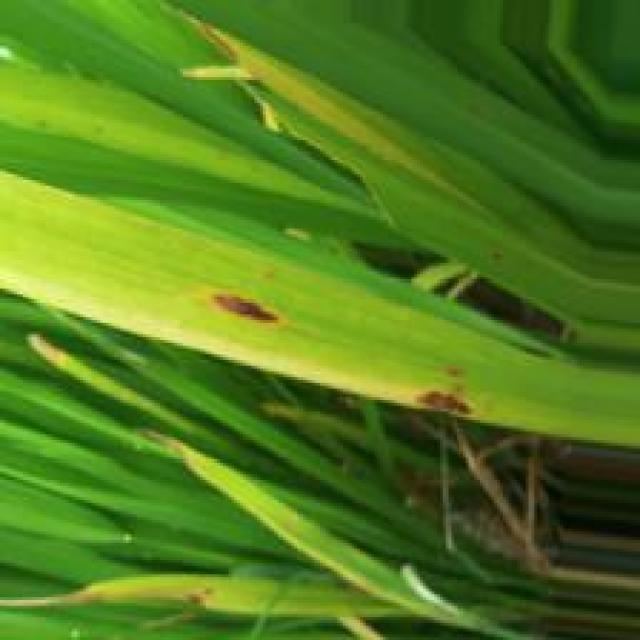Narrow_Brown_Leaf_Spot: (0, 273, 500, 422), (200, 280, 292, 333)
